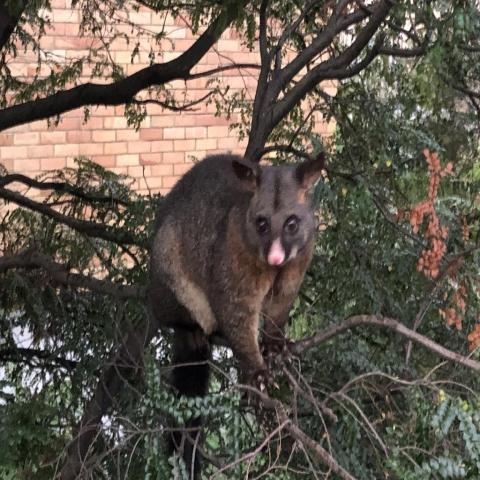small_animal: (145, 148, 327, 413)
